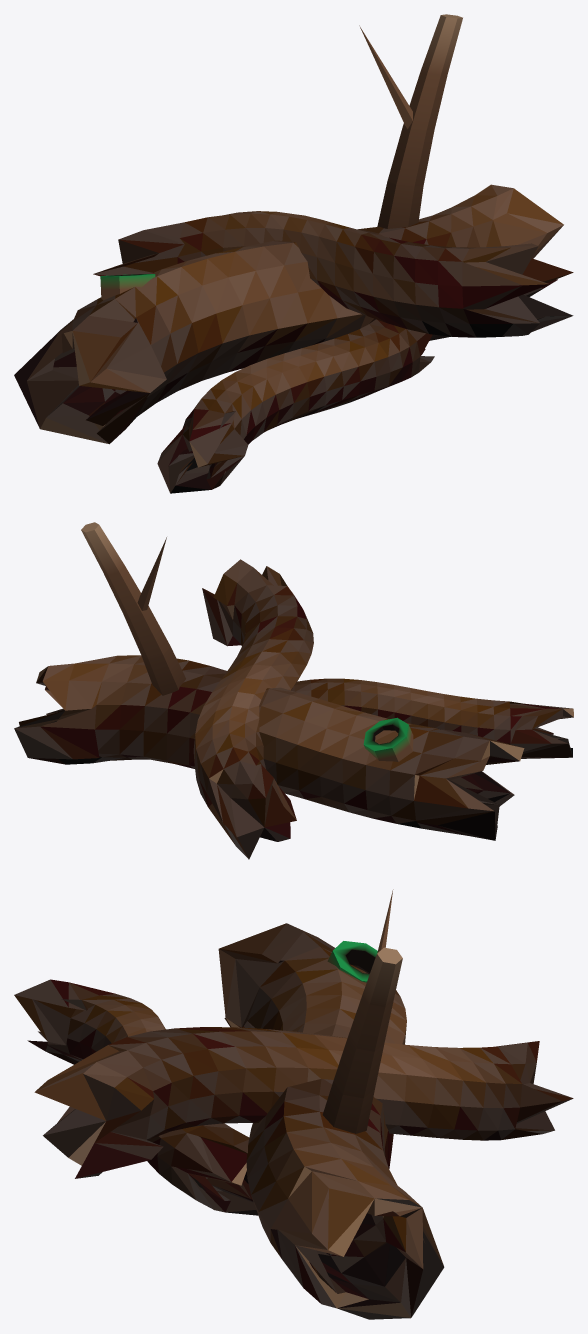
Rendered from pohon_tumbang_logjam_rainforest_736025.glb.
The picture shows the model from 3 angles, top to bottom: view 1: azimuth 30°, elevation 25°; view 2: azimuth 150°, elevation 25°; view 3: azimuth 270°, elevation 25°; orthographic projection. The views are drawn at different scales.
Visible parts, largest first — view 1: Tumpukan_Kayu_Hanyut; view 2: Tumpukan_Kayu_Hanyut; view 3: Tumpukan_Kayu_Hanyut.
Boxes of the visible parts, bbox=[...] form: Tumpukan_Kayu_Hanyut: bbox=[14, 14, 573, 493]; Tumpukan_Kayu_Hanyut: bbox=[14, 522, 573, 859]; Tumpukan_Kayu_Hanyut: bbox=[14, 889, 573, 1319].
Bounding box in the file's own units: 4.68 × 2.53 × 3.59.
